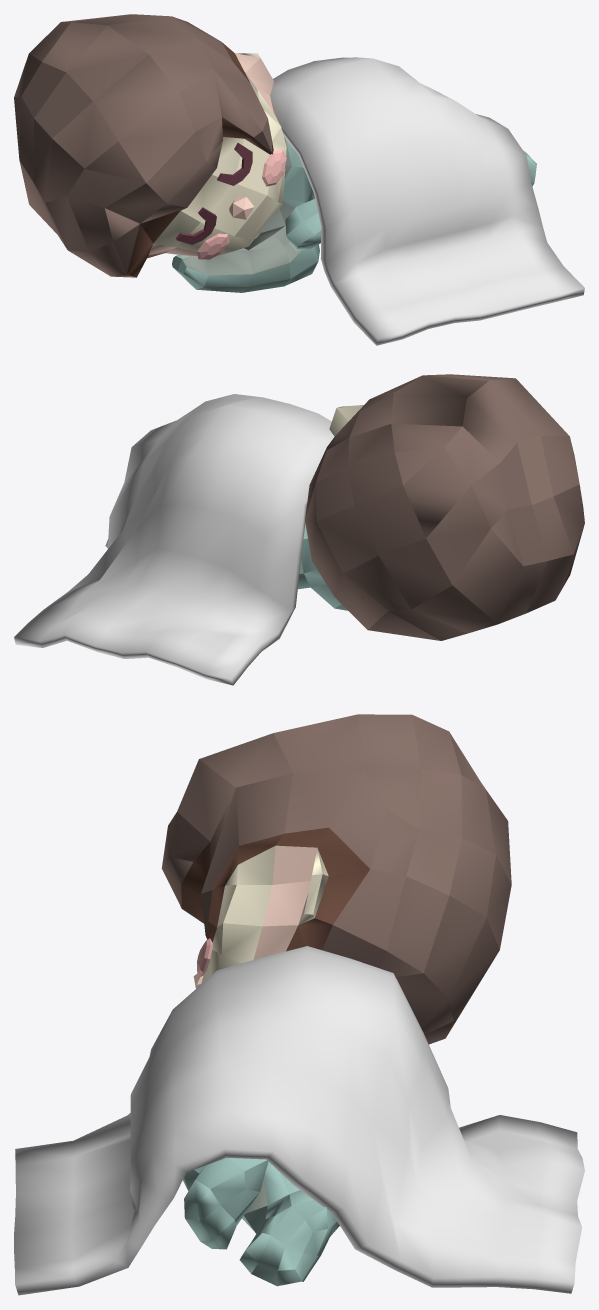
File: kidcurve.fbx
The picture shows the model from 3 angles, top to bottom: view 1: azimuth 30°, elevation 25°; view 2: azimuth 150°, elevation 25°; view 3: azimuth 270°, elevation 25°; orthographic projection. The views are drawn at different scales.
Visible parts, largest first — view 1: S_Kid, Plane; view 2: S_Kid, Plane; view 3: Plane, S_Kid.
Part boxes in pixels (box(x1,y1,x2,y2)): S_Kid: box(14, 14, 536, 292); Plane: box(270, 57, 584, 345); S_Kid: box(105, 374, 584, 640); Plane: box(14, 394, 334, 685); Plane: box(14, 946, 584, 1295); S_Kid: box(161, 714, 511, 1286).
Size of the model in its own units: 81.8 by 45.6 by 66.84.
